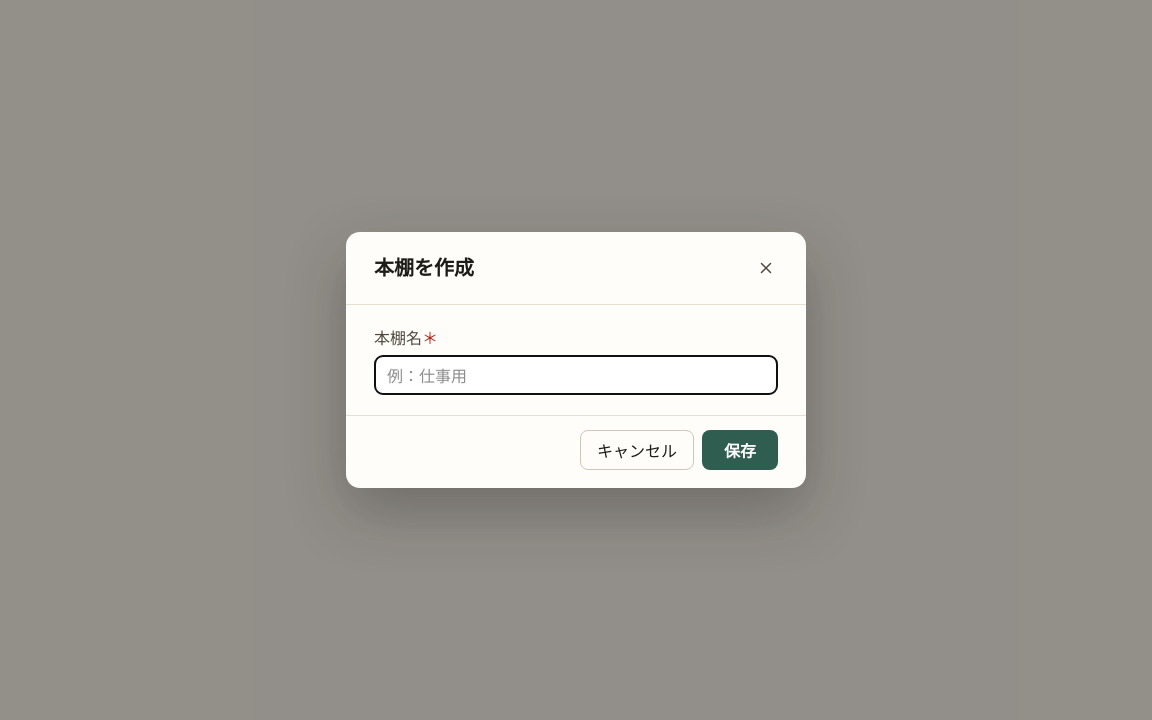
it: 作成モード › API の入力エラーを、入力欄の下に表示する
The width and height of the screenshot is (1152, 720).
Type "漫画" into the field labelled "本棚名＊" at coordinates (576, 375), box [374,355,778,395]
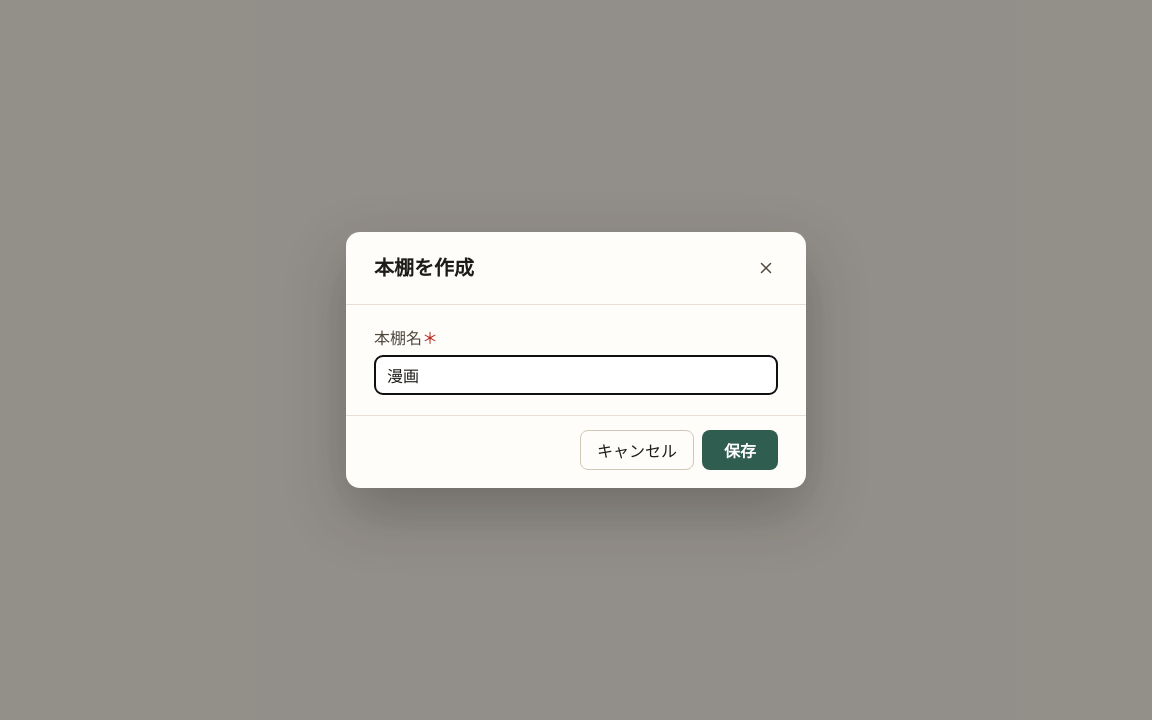
Click the button "保存" at coordinates (740, 450), box [702,430,778,470]
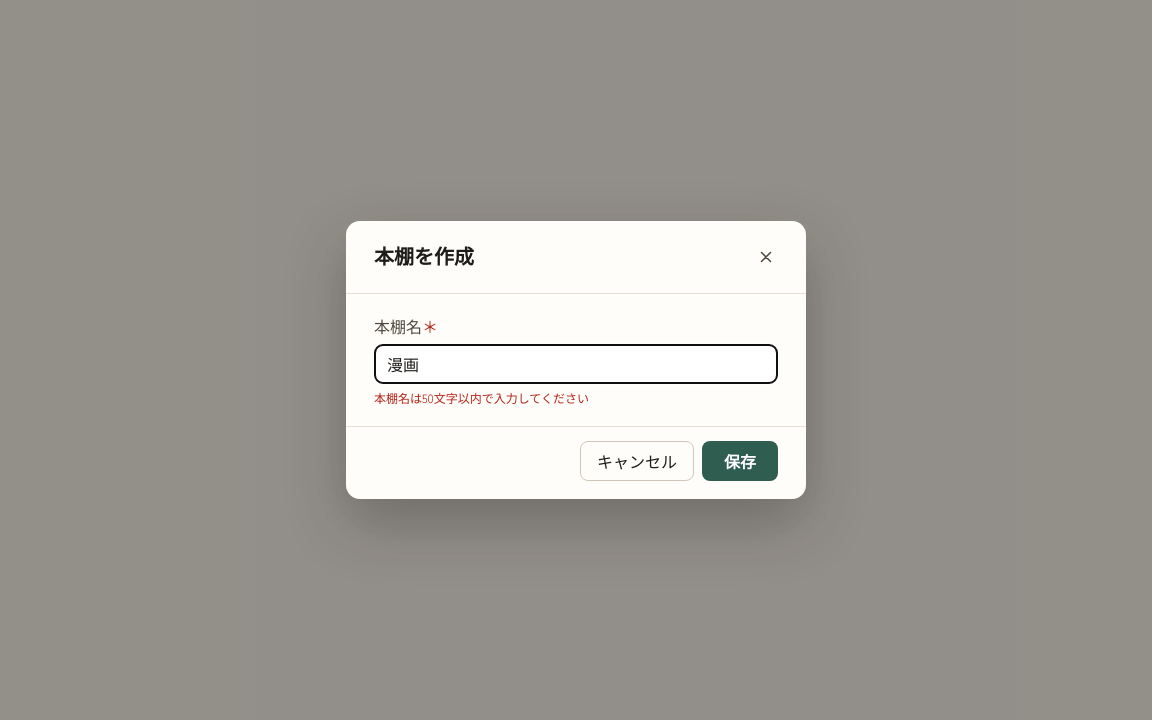
Result: the text "本棚名は50文字以内で入力してください" is shown at [374,389,589,406]
